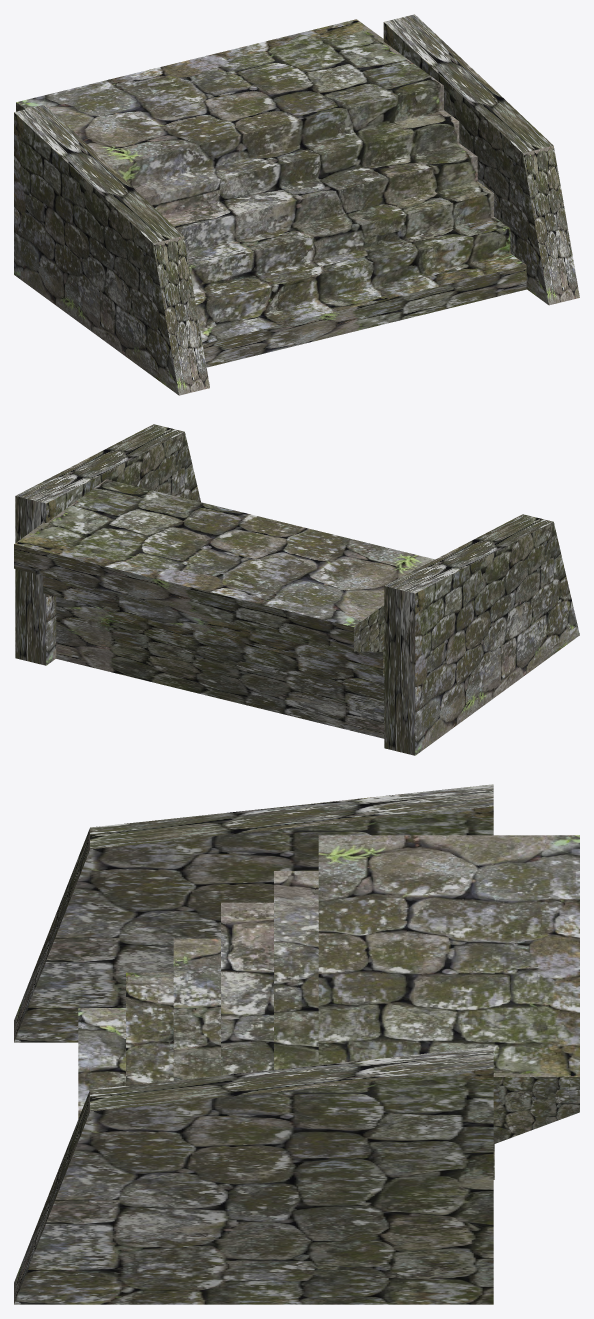
File: starway 1 Textured .fbx
3 renders of one model, top to bottom at view 1: azimuth 30°, elevation 25°; view 2: azimuth 150°, elevation 25°; view 3: azimuth 270°, elevation 25°, orthographic. The views are drawn at different scales.
Visible parts, largest first — view 1: Cube.001; view 2: Cube.001; view 3: Cube.001.
Part boxes in pixels (<box>): Cube.001: <box>14,14,579,395</box>; Cube.001: <box>14,424,579,755</box>; Cube.001: <box>14,784,579,1304</box>.
Size of the model in its own units: 706 by 274 by 595.
Materials: 1 (1 with a texture image).
